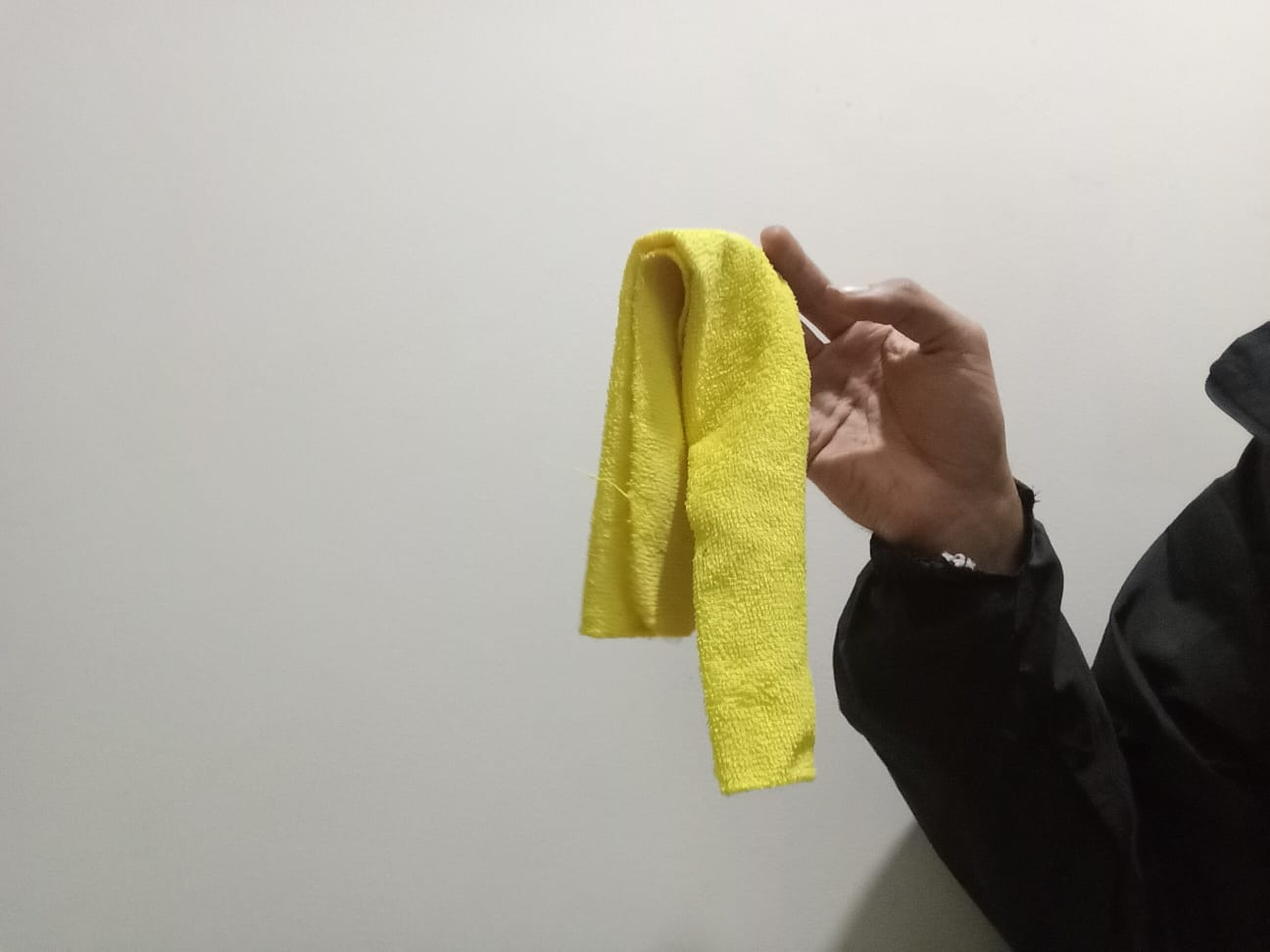Ordinario: (581, 228, 818, 794)
